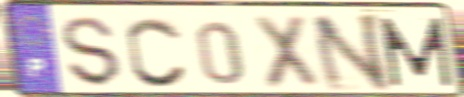0: (193, 19, 249, 86)
C: (124, 15, 191, 90)
M: (376, 15, 456, 89)
N: (307, 11, 393, 94)
S: (59, 14, 124, 89)
X: (250, 13, 323, 92)
